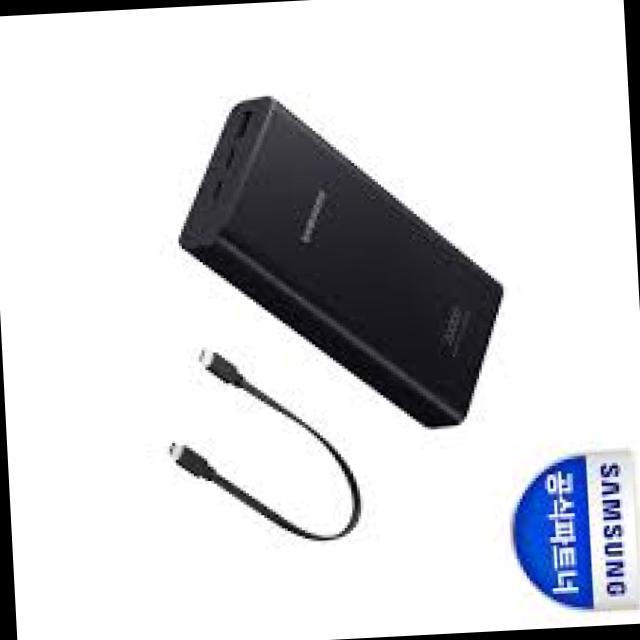portable-charger: (169, 78, 512, 448)
